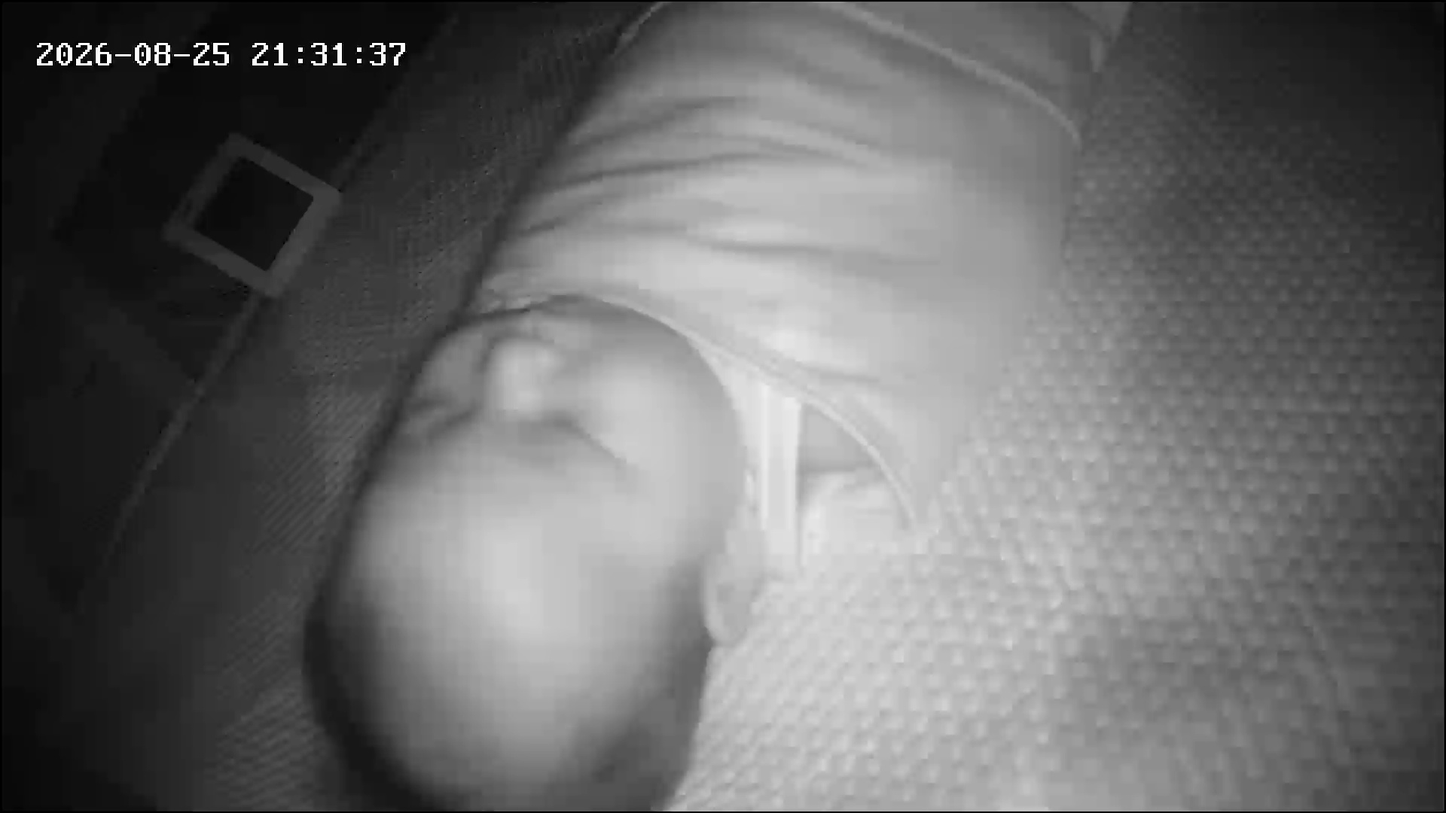baby: (279, 0, 1115, 809)
baby_face: (298, 284, 823, 809)
